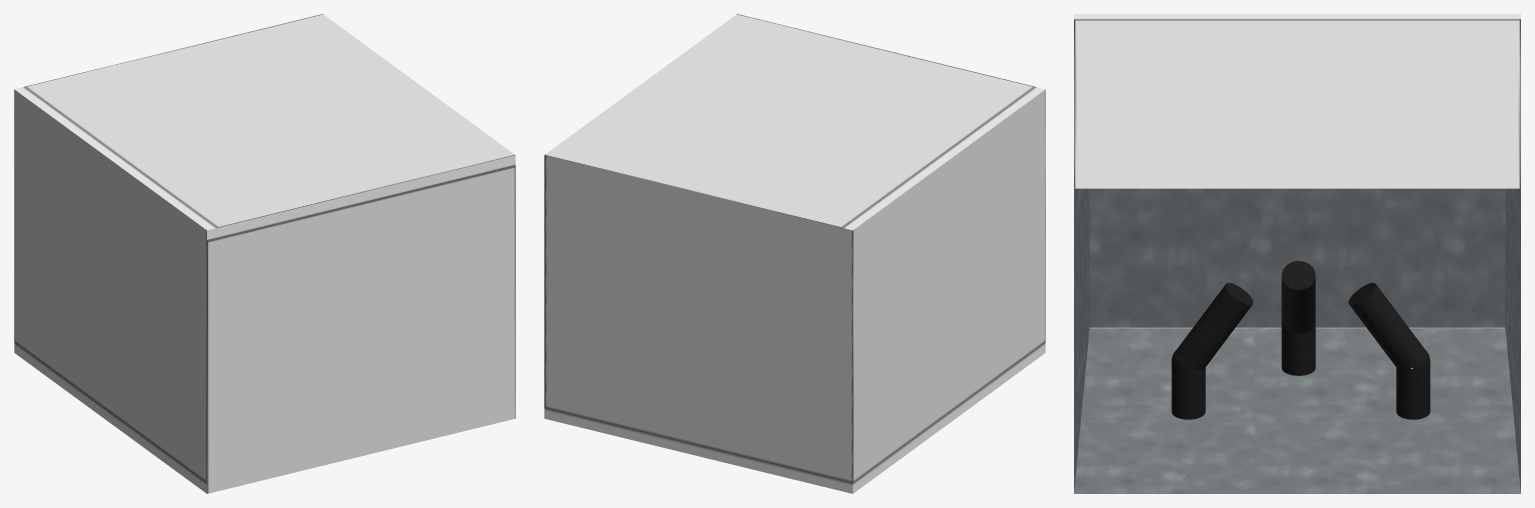
Rendered from labCabin.fbx.
The picture shows the model from 3 angles, left to right: view 1: azimuth 30°, elevation 25°; view 2: azimuth 150°, elevation 25°; view 3: azimuth 270°, elevation 25°; orthographic projection. The views are drawn at different scales.
Parts seen in each view (by area): view 1: Kabinka; view 2: Kabinka; view 3: Kabinka.
Boxes of the visible parts, x1,y1,x2,y2 form: Kabinka: [14, 14, 515, 493]; Kabinka: [544, 14, 1045, 493]; Kabinka: [1074, 14, 1520, 493].
Bounding box in the file's own units: 1318 × 1157 × 1426.
